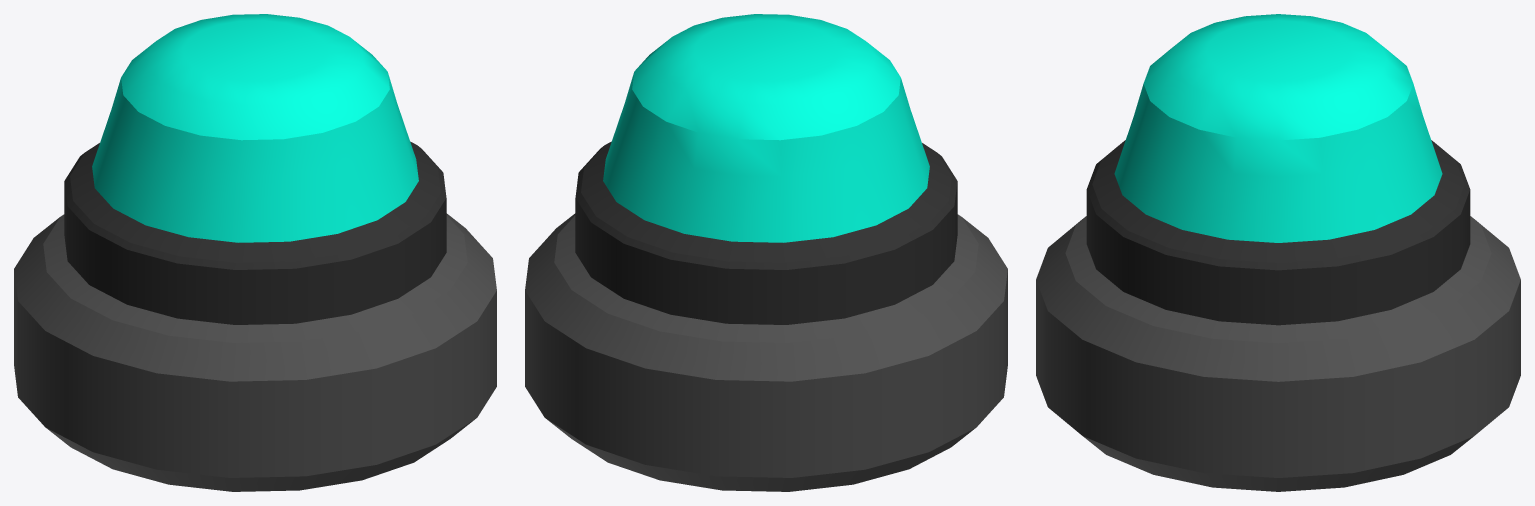
The model's file is SM_LED_bleuclair.fbx.
3 renders of one model, left to right at view 1: azimuth 30°, elevation 25°; view 2: azimuth 150°, elevation 25°; view 3: azimuth 270°, elevation 25°, orthographic.
Visible parts, largest first — view 1: pCylinder8; view 2: pCylinder8; view 3: pCylinder8.
Part boxes in pixels (box(x1,y1,x2,y2)): pCylinder8: box(14, 14, 496, 491); pCylinder8: box(525, 14, 1007, 491); pCylinder8: box(1036, 14, 1520, 491).
Size of the model in its own units: 0.5123 by 0.4089 by 0.5123.
